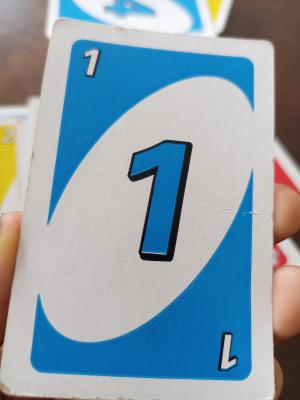blue: (57, 42, 239, 384)
num_1: (207, 329, 247, 382), (78, 45, 118, 80)
